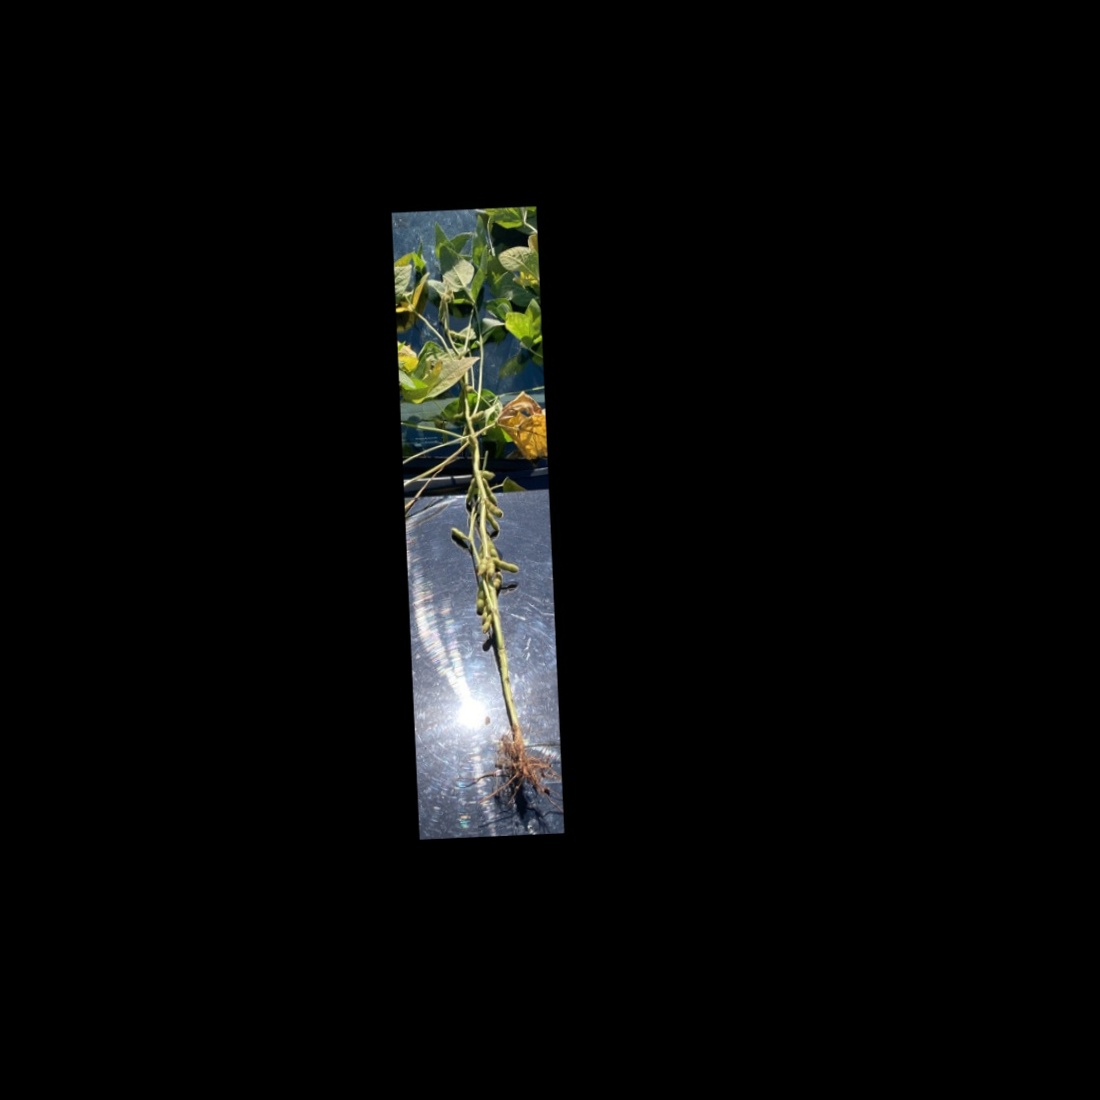pod: (460, 474, 482, 510), (483, 495, 505, 521), (492, 556, 520, 576), (483, 507, 501, 536), (448, 524, 470, 544), (471, 589, 486, 613), (477, 613, 492, 637)
soy: (411, 213, 556, 812)
